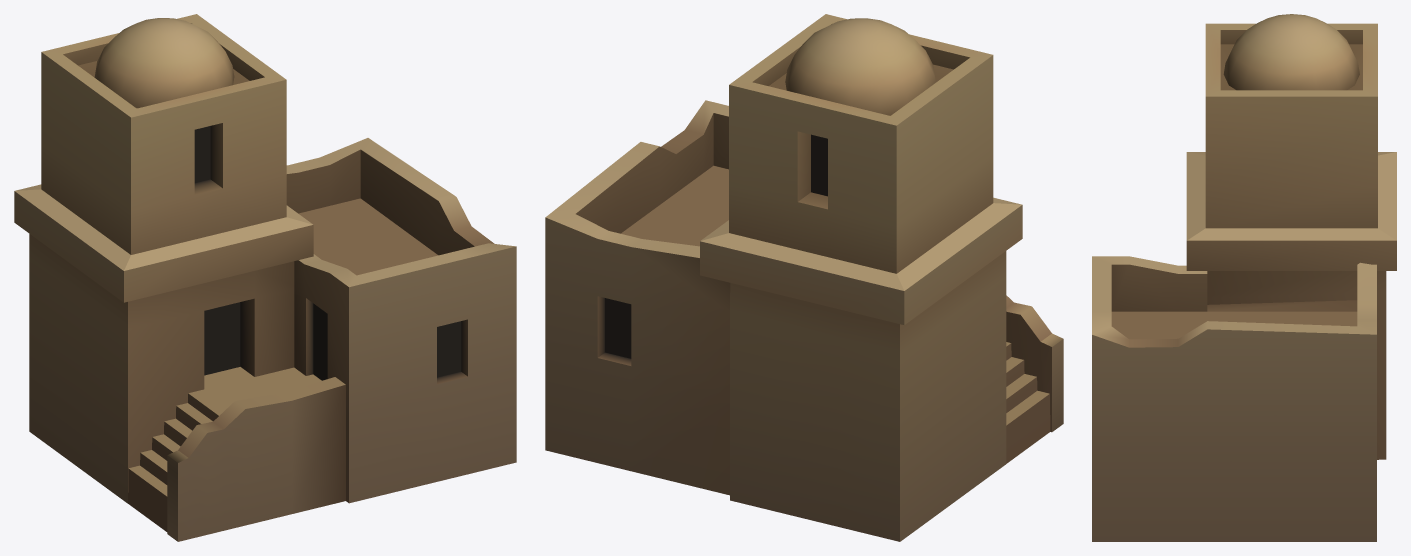
File: Historical_DesertBuildingOld_alt04.glb
3 renders of one model, left to right at view 1: azimuth 30°, elevation 25°; view 2: azimuth 150°, elevation 25°; view 3: azimuth 270°, elevation 25°, orthographic. The views are drawn at different scales.
Parts seen in each view (by area): view 1: alt4.013; view 2: alt4.013; view 3: alt4.013.
Boxes of the visible parts, x1,y1,x2,y2 form: alt4.013: (14, 14, 516, 541); alt4.013: (545, 14, 1063, 541); alt4.013: (1092, 14, 1396, 541).
Size of the model in its own units: 16.72 by 19.64 by 13.4.
